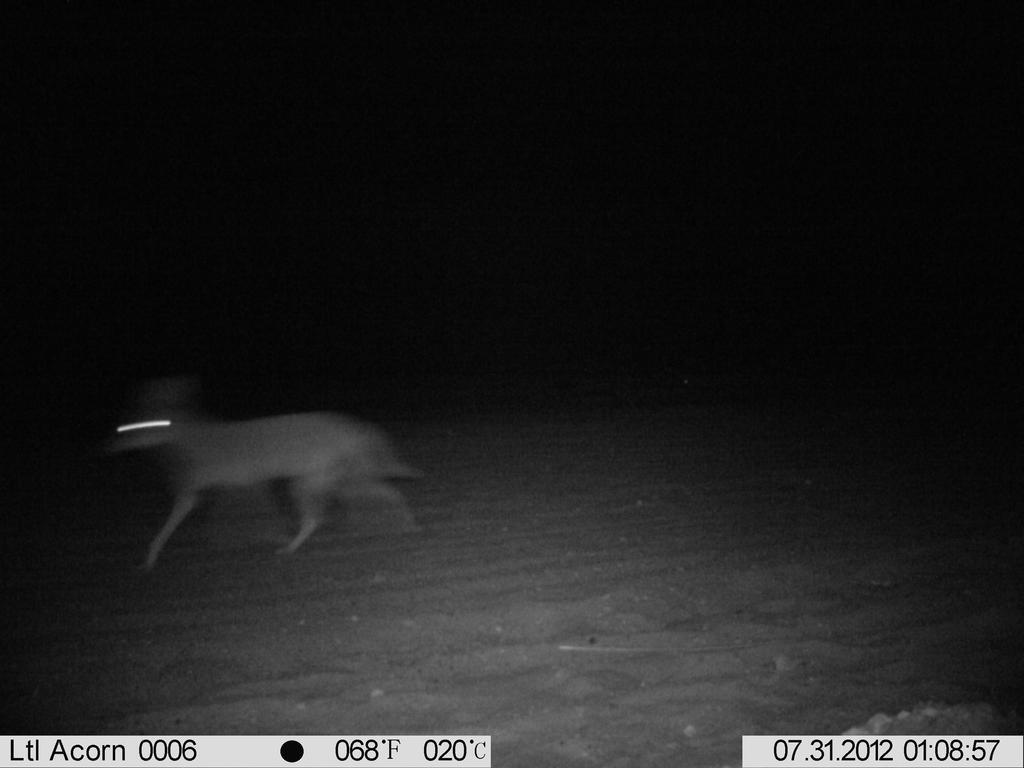coyote: (93, 372, 423, 569)
